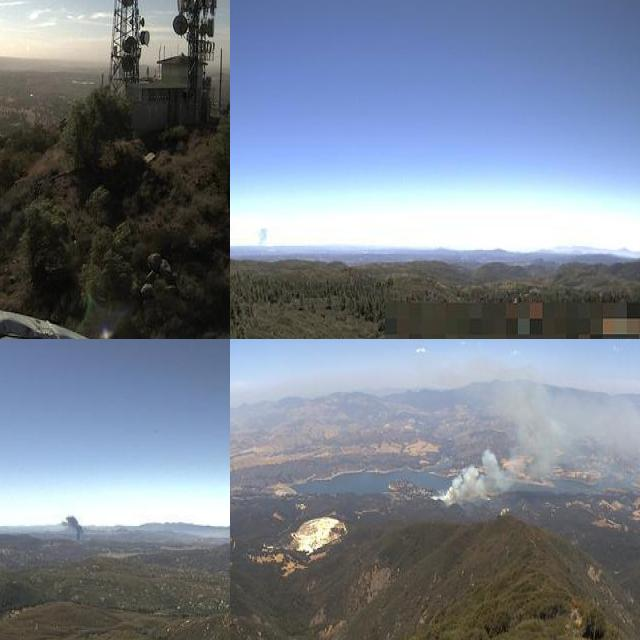smoke: (422, 352, 640, 512), (59, 510, 88, 543), (255, 223, 268, 250)
